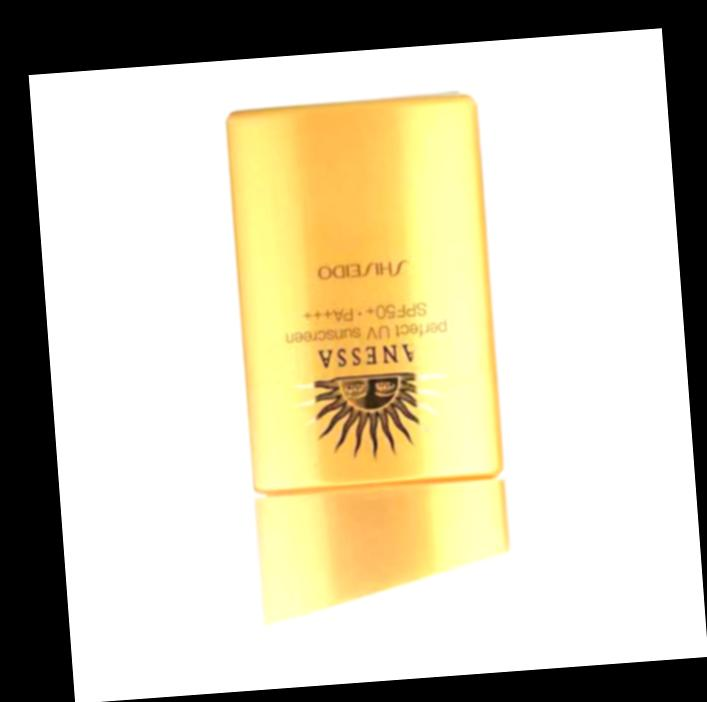cosmetic: (225, 94, 513, 642)
